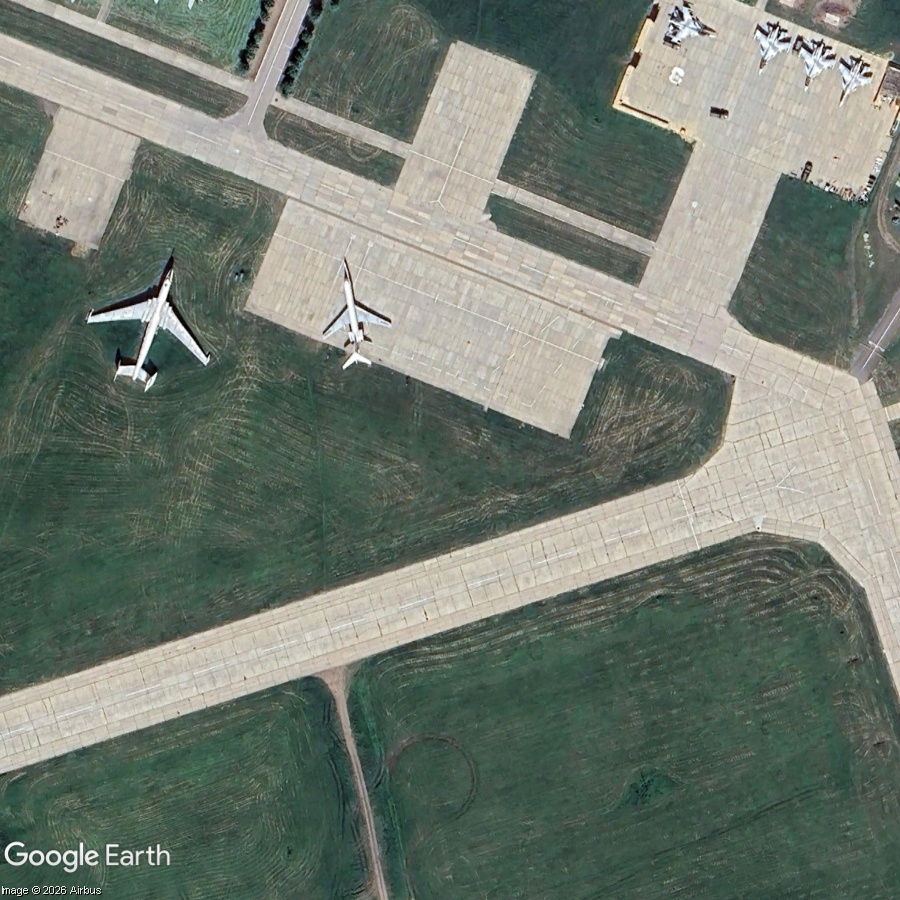Máy bay chiến đấu: (738, 14, 800, 86), (783, 31, 844, 103), (821, 49, 882, 118), (657, 0, 726, 58)
Máy bay ném bom: (67, 237, 241, 413), (313, 261, 394, 368)
Máy bay vận tải/Tiếp dầu: (313, 264, 394, 360)
